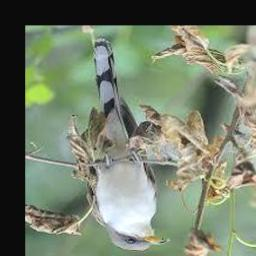Cuckoo: (87, 38, 170, 252)
